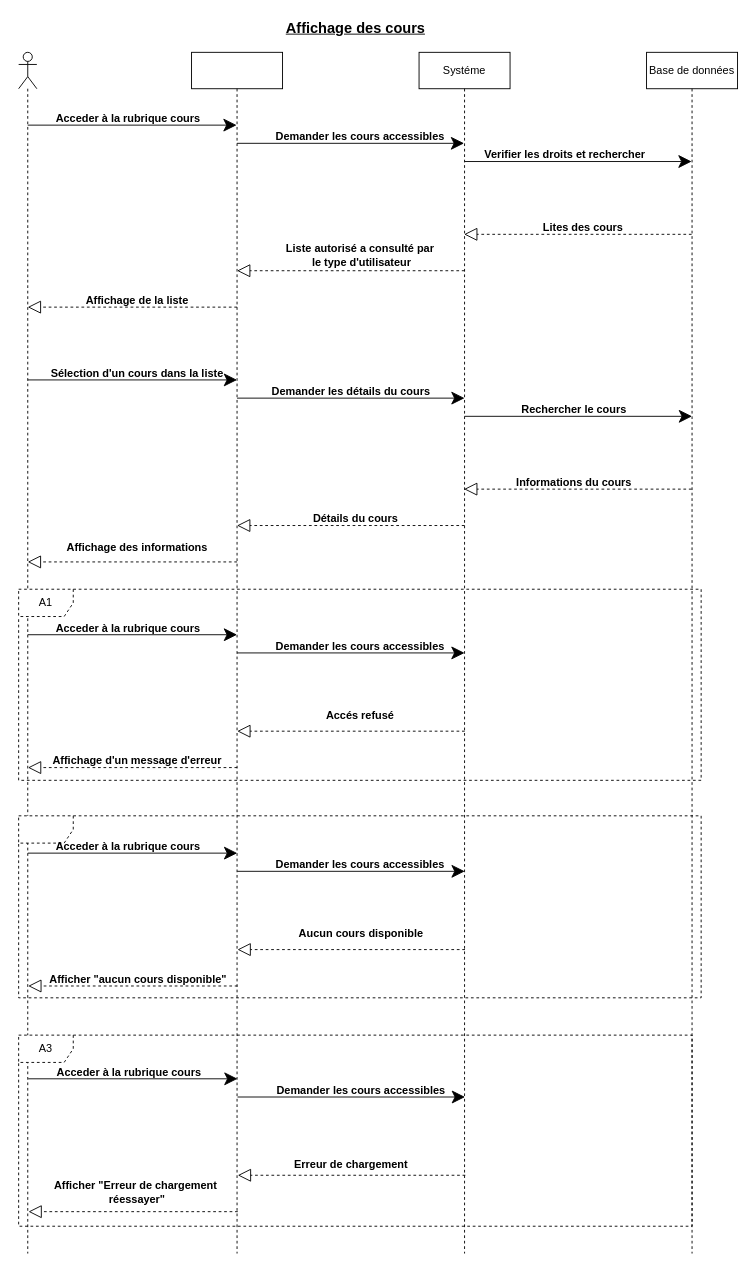
The diagram is 753 pixels wide and 1269 high, and some of its shapes have lost their labels. The box of each missing label's shape, as (x1, y1, x2, y2) in pixels:
A2: (18, 815, 701, 998)
Interface: (191, 51, 283, 1254)
